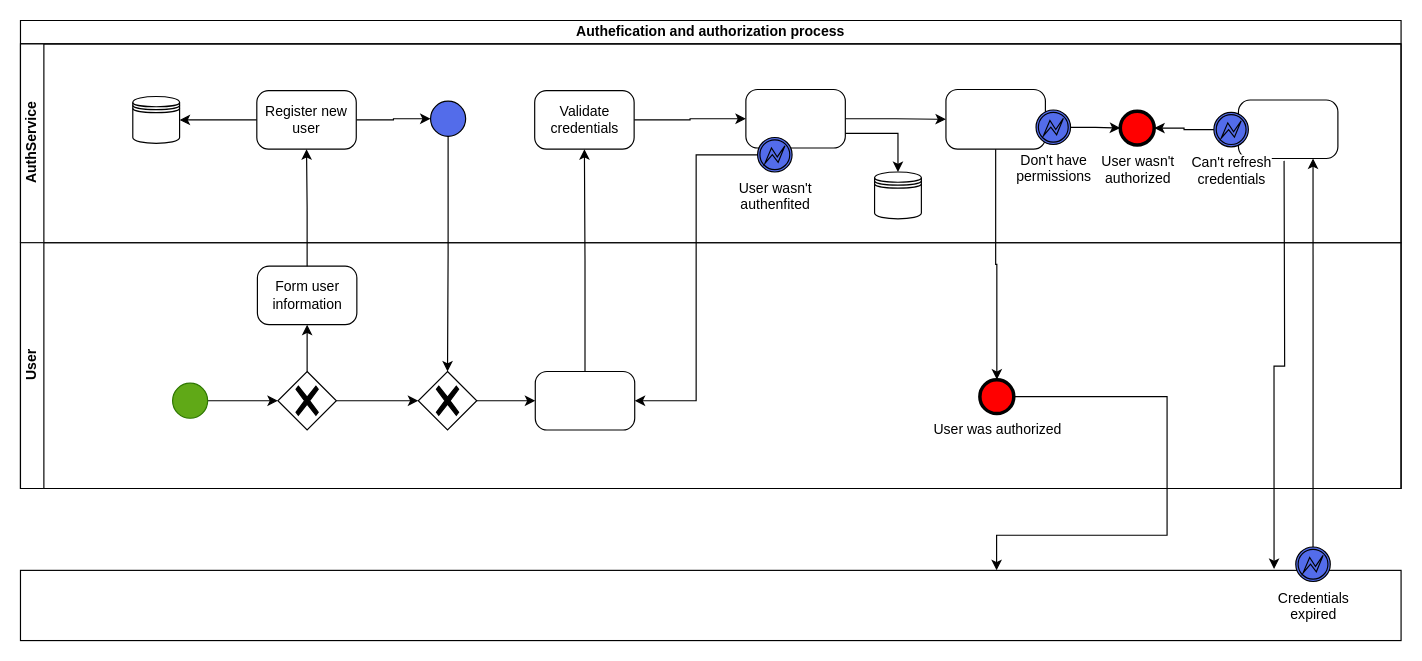
Some shapes in this 1422 by 661 pixel diagram are drawn without their labels. Each missing label, with the centre of its shape:
"Authenticate the user" goes at (x=795, y=118).
"Authorize the user" goes at (x=995, y=118).
"New user has been registered" goes at (x=447, y=118).
"Refresh credentials" goes at (x=1287, y=129).
"Set credentials" goes at (x=584, y=400).
"User open site" goes at (x=189, y=400).
